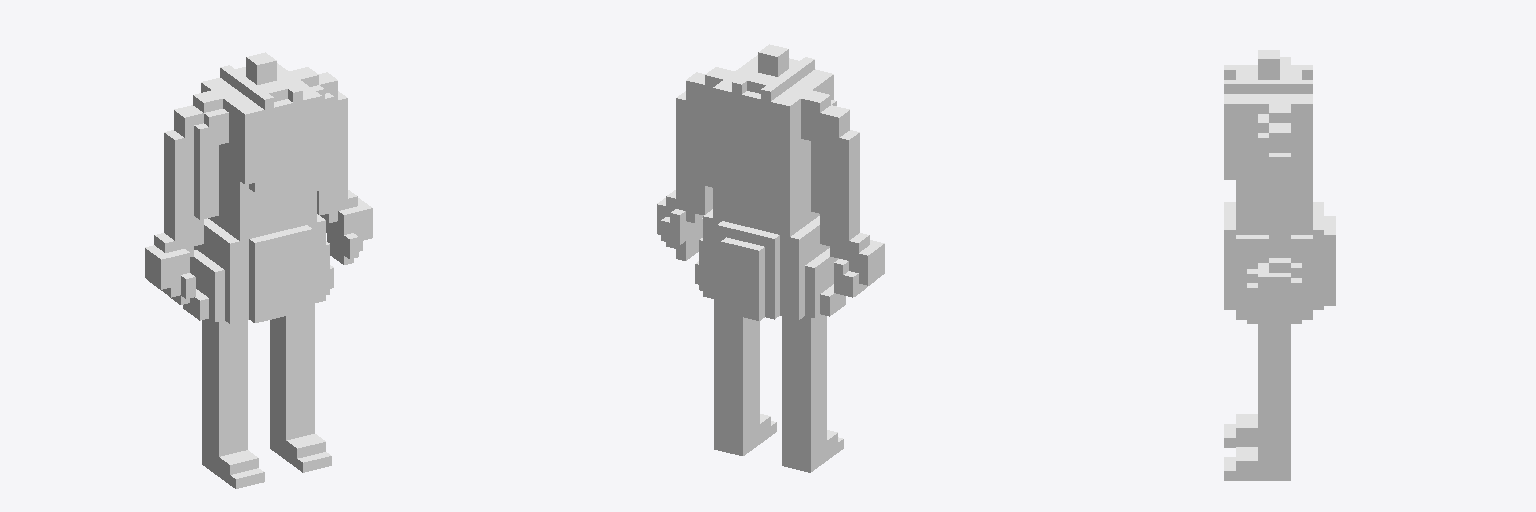
Rendered from doll_body.obj.
The picture shows the model from 3 angles: view 1: azimuth 30°, elevation 25°; view 2: azimuth 150°, elevation 25°; view 3: azimuth 270°, elevation 25°; orthographic projection.
Visible parts, largest first — view 1: object 1; view 2: object 1; view 3: object 1.
Part boxes in pixels (x1,y1,x2,y2): object 1: (145, 52, 372, 488); object 1: (657, 44, 884, 472); object 1: (1224, 50, 1335, 480).
Bounding box in the file's own units: 2.2 × 4 × 1.